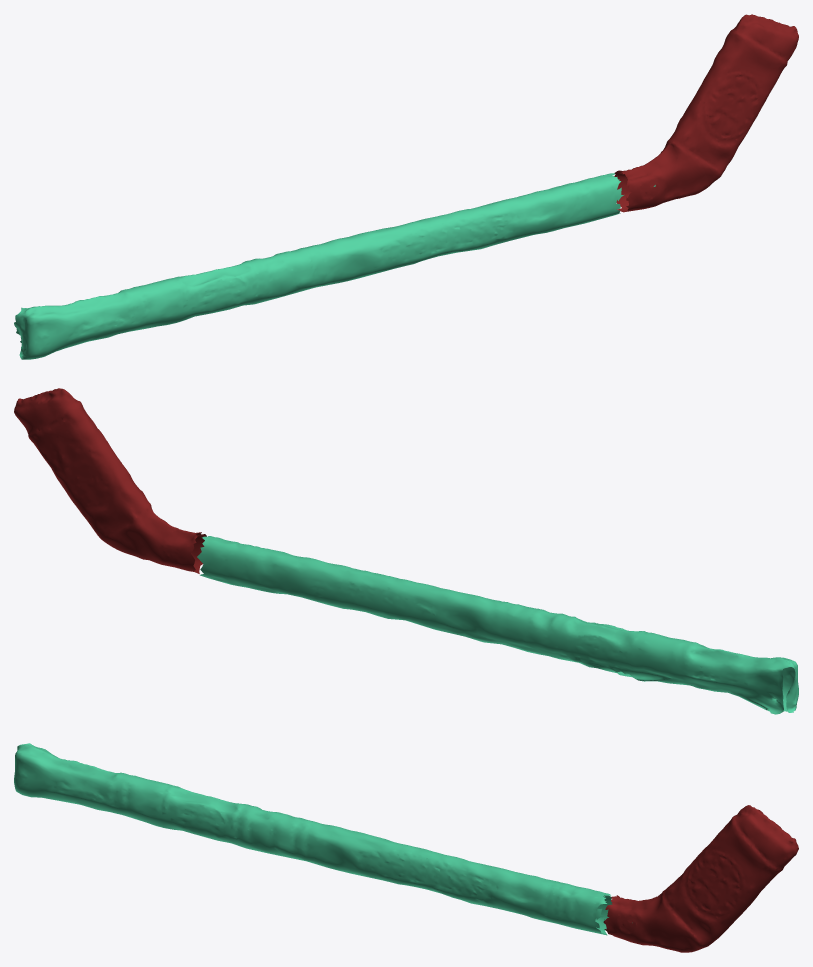
File: object_deformed_6.obj
3 renders of one model, top to bottom at view 1: azimuth 30°, elevation 25°; view 2: azimuth 150°, elevation 25°; view 3: azimuth 330°, elevation 25°, orthographic. The views are drawn at different scales.
Bounding box in the file's own units: 0.8476 × 0.1667 × 0.05.
